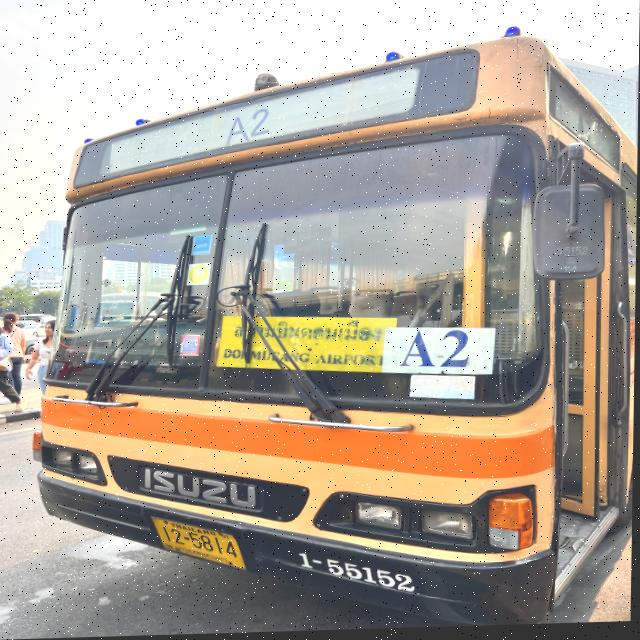BMTA-bus: (37, 34, 639, 629)
Bus Line Number: (217, 101, 279, 156)
Bus Side Number: (289, 547, 424, 600)
Destination Sign: (220, 314, 397, 378)
